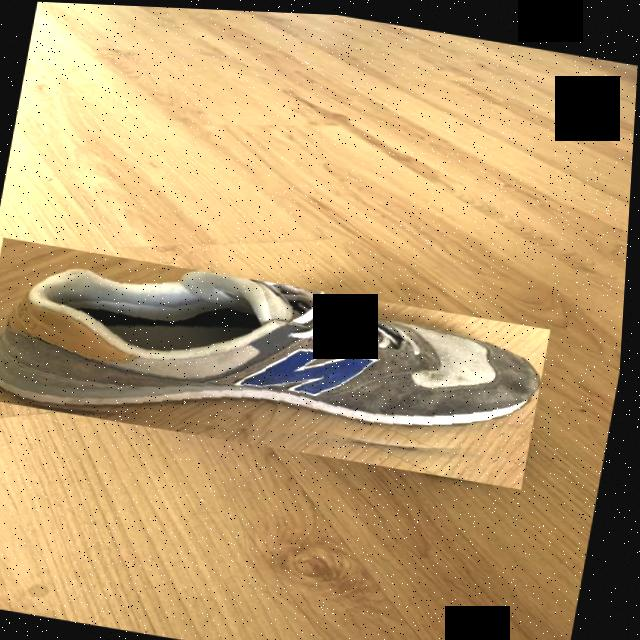shoe: (0, 236, 557, 484)
